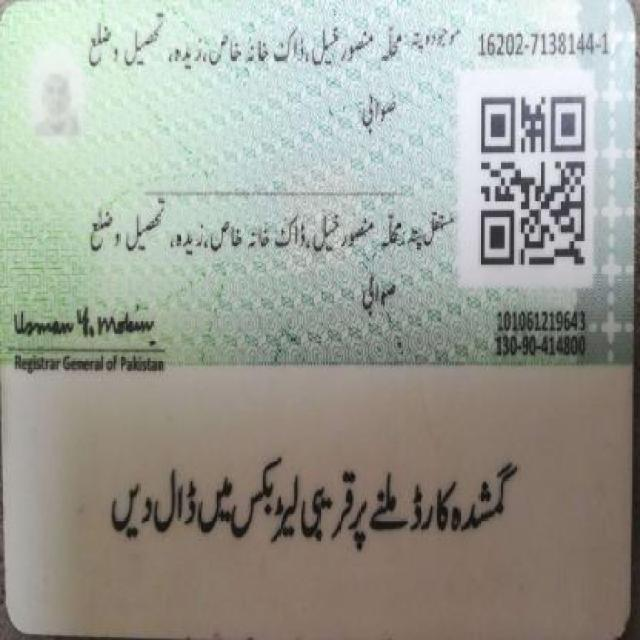Back: (3, 6, 632, 632)
